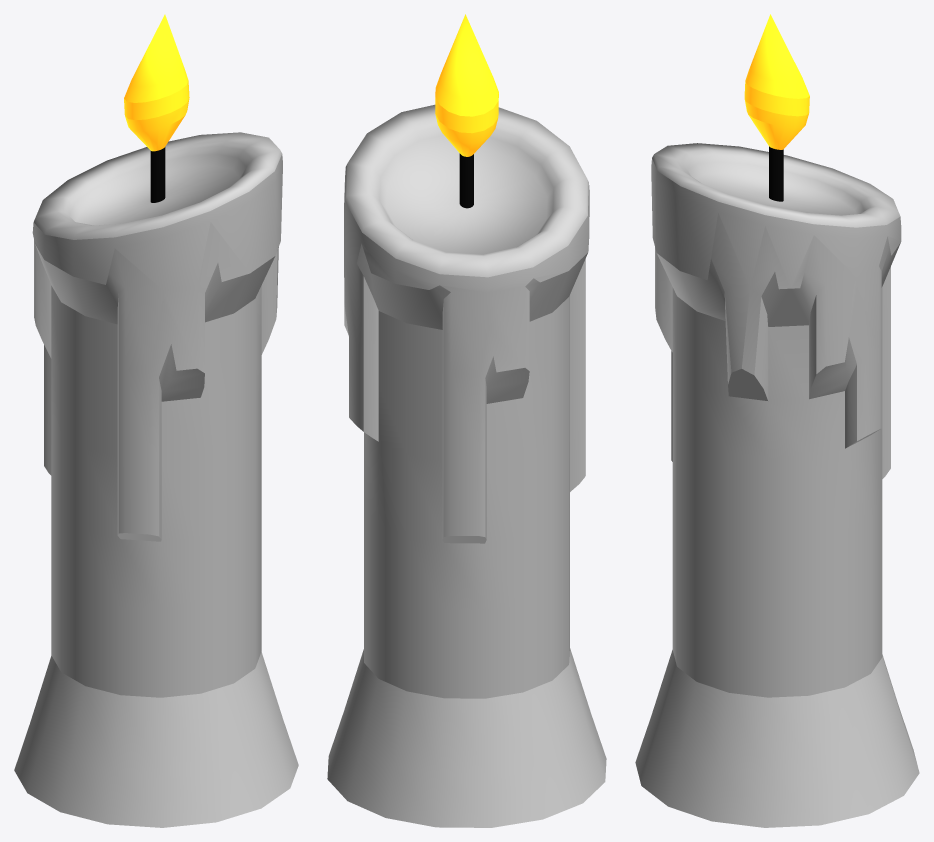
File: Candle 1.fbx
The picture shows the model from 3 angles, left to right: view 1: azimuth 30°, elevation 25°; view 2: azimuth 150°, elevation 25°; view 3: azimuth 270°, elevation 25°; orthographic projection.
Visible parts, largest first — view 1: candles.001; view 2: candles.001; view 3: candles.001.
Part boxes in pixels (<box>): candles.001: <box>14,14,298,827</box>; candles.001: <box>327,14,606,827</box>; candles.001: <box>635,14,919,827</box>.
Size of the model in its own units: 4.94 by 14.51 by 4.94.
